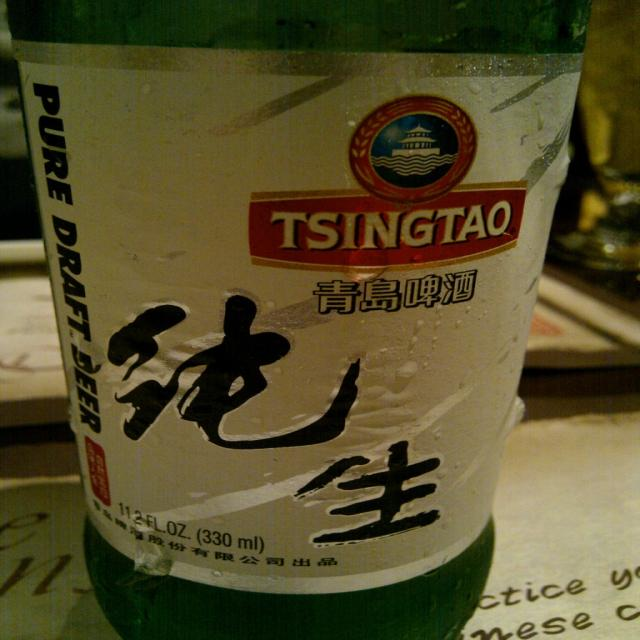tsingtao: (234, 90, 535, 278)
